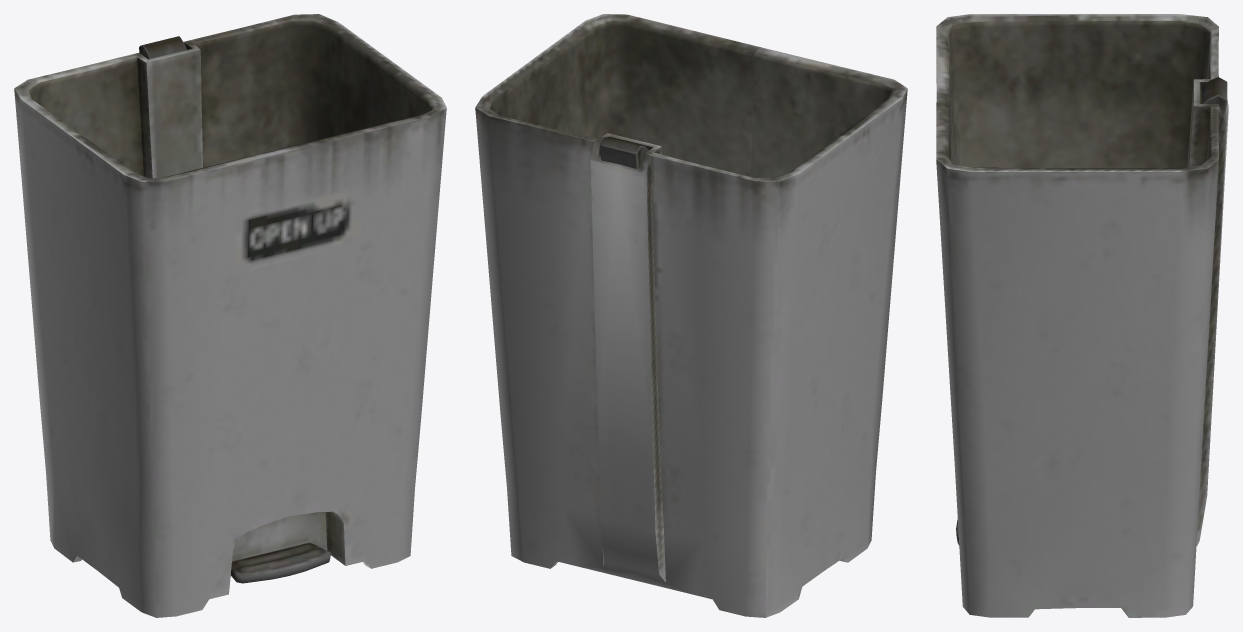
Rendered from trashBin02.FBX.
3 renders of one model, left to right at view 1: azimuth 30°, elevation 25°; view 2: azimuth 150°, elevation 25°; view 3: azimuth 270°, elevation 25°, orthographic.
Parts seen in each view (by area): view 1: SM_TrashBin02; view 2: SM_TrashBin02; view 3: SM_TrashBin02.
Boxes of the visible parts, left/top/right/bottom form: SM_TrashBin02: left=14, top=14, right=446, bottom=617; SM_TrashBin02: left=475, top=14, right=907, bottom=617; SM_TrashBin02: left=936, top=14, right=1228, bottom=617.
Bounding box in the file's own units: 25.42 × 35 × 19.91.
Materials: 1 (1 with a texture image).
